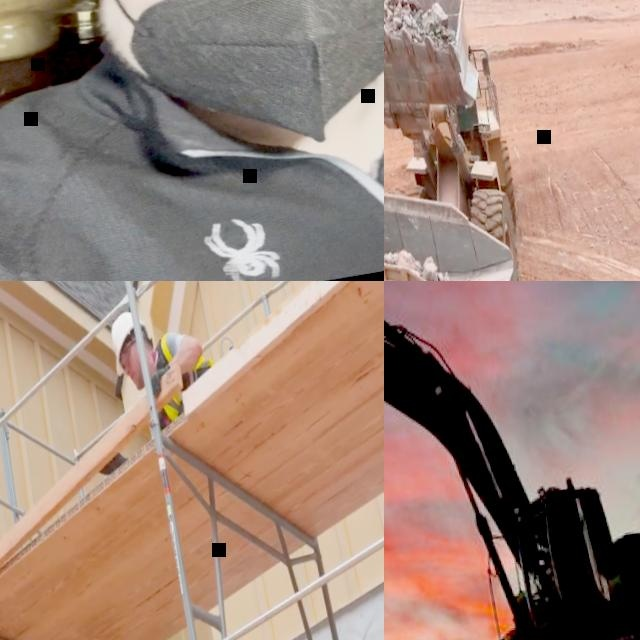Hardhat: (106, 307, 154, 375)
Mask: (95, 0, 384, 174)
NO-Mask: (128, 356, 144, 392)
NO-Safety Vest: (0, 0, 384, 281)
Person: (0, 0, 384, 281), (106, 295, 222, 430)
Safety Vest: (150, 324, 222, 422)
machinery: (384, 281, 640, 640), (384, 0, 540, 281), (384, 106, 558, 281)
